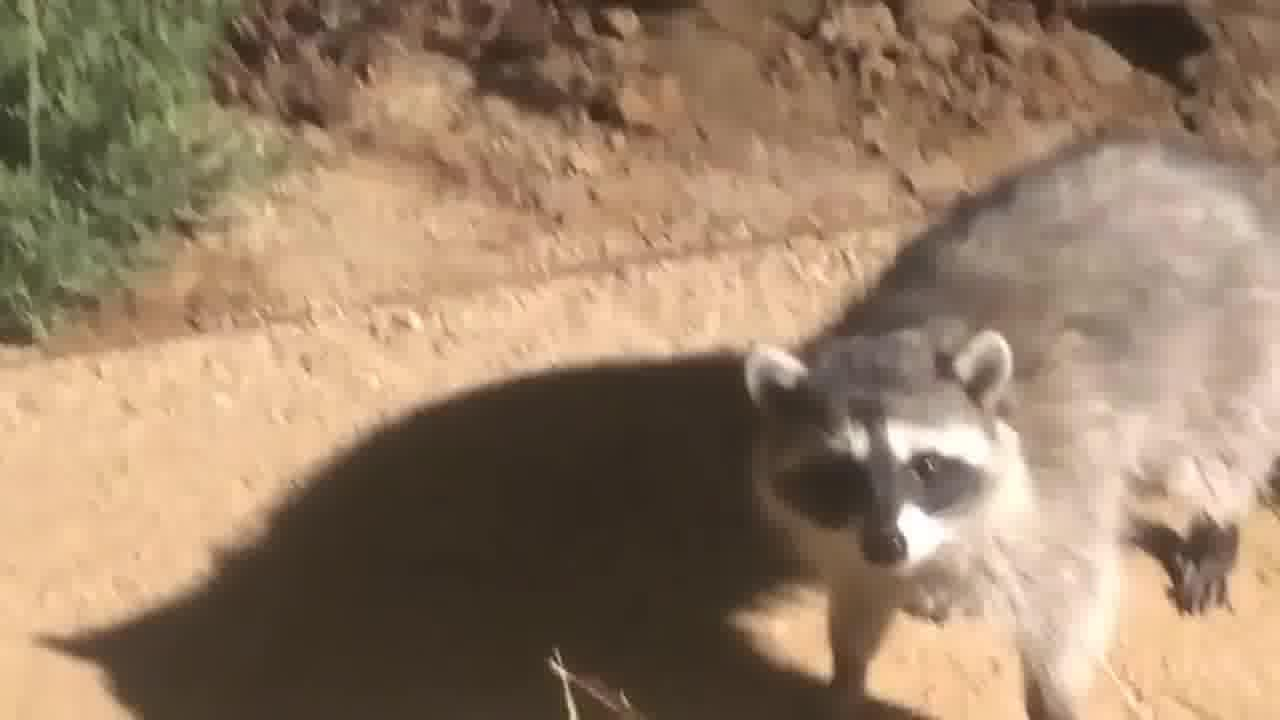raccoon: (756, 132, 1280, 720)
